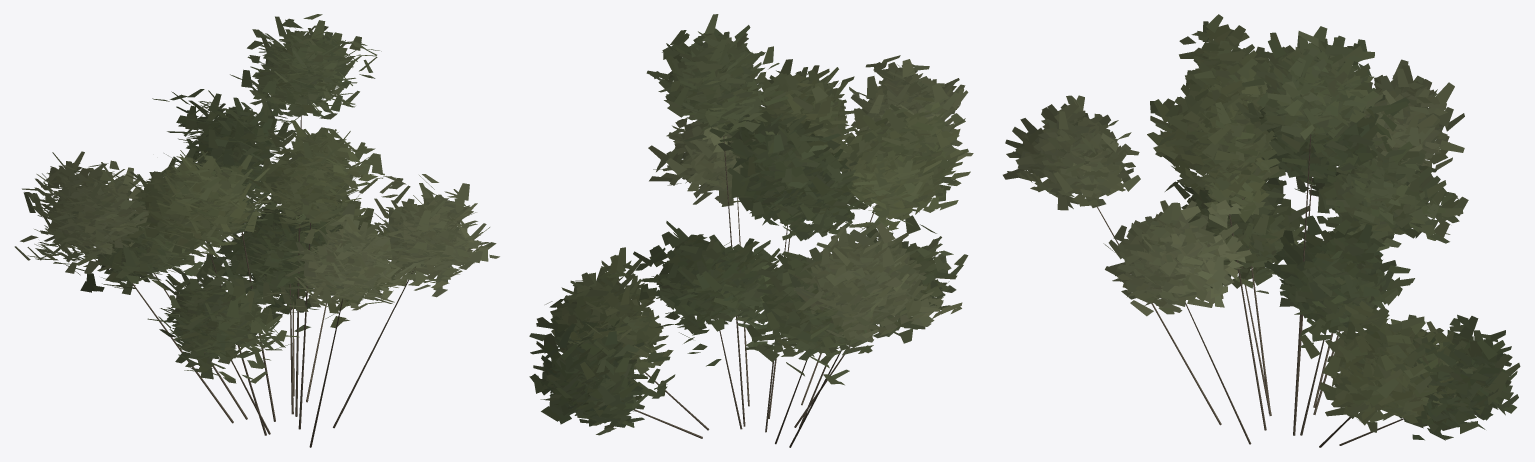
The model's file is btree.glb.
3 views of the same model, side by side, from view 1: azimuth 30°, elevation 25°; view 2: azimuth 150°, elevation 25°; view 3: azimuth 270°, elevation 25° (orthographic). The views are drawn at different scales.
Parts seen in each view (by area): view 1: btree_lod0_1, btree_lod0_0; view 2: btree_lod0_1, btree_lod0_0; view 3: btree_lod0_1, btree_lod0_0.
Boxes of the visible parts, left/top/right/bottom form: btree_lod0_1: left=14, top=14, right=499, bottom=383; btree_lod0_0: left=121, top=116, right=415, bottom=447; btree_lod0_1: left=529, top=14, right=973, bottom=435; btree_lod0_0: left=633, top=136, right=888, bottom=447; btree_lod0_1: left=1003, top=14, right=1520, bottom=440; btree_lod0_0: left=1097, top=134, right=1403, bottom=447.
Size of what is drawn, in the model's own units: 4.8 by 4.55 by 5.12.
2 materials, 1 textured.
